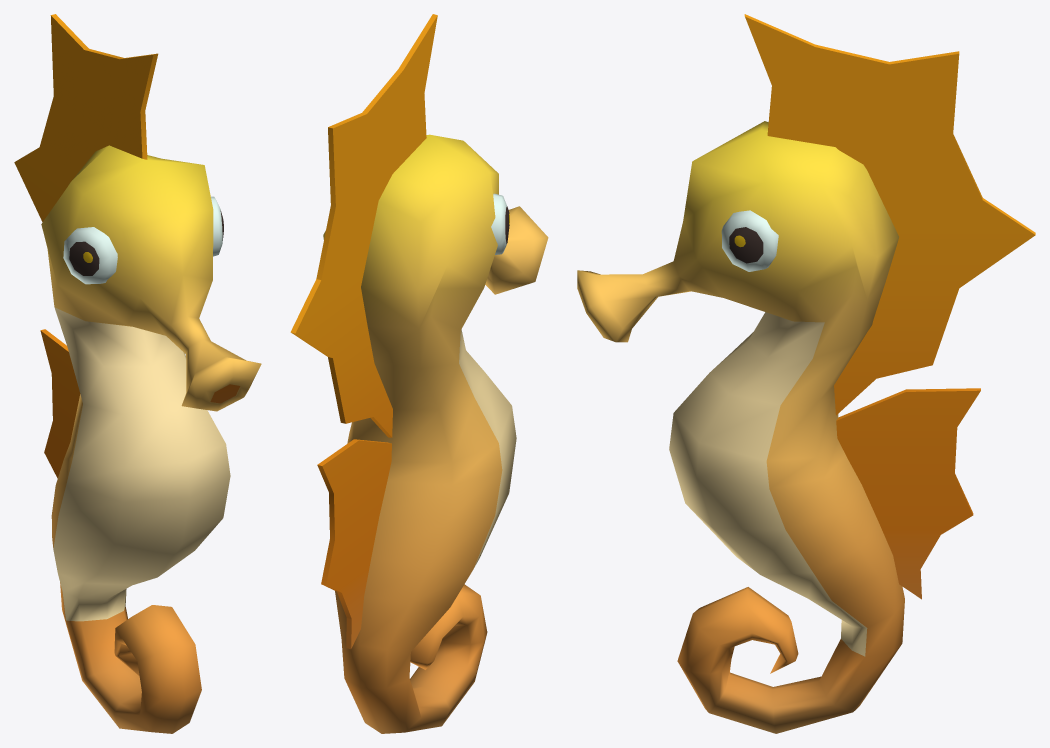
3 renders of one model, left to right at view 1: azimuth 30°, elevation 25°; view 2: azimuth 150°, elevation 25°; view 3: azimuth 270°, elevation 25°, orthographic. The views are drawn at different scales.
Visible parts, largest first — view 1: Fish_SeaHorse; view 2: Fish_SeaHorse; view 3: Fish_SeaHorse.
Part boxes in pixels (box(x1,y1,x2,y2)): Fish_SeaHorse: box(14, 14, 261, 733); Fish_SeaHorse: box(290, 14, 548, 733); Fish_SeaHorse: box(577, 14, 1035, 733).
Size of the model in its own units: 5.41 by 23.44 by 13.59.
